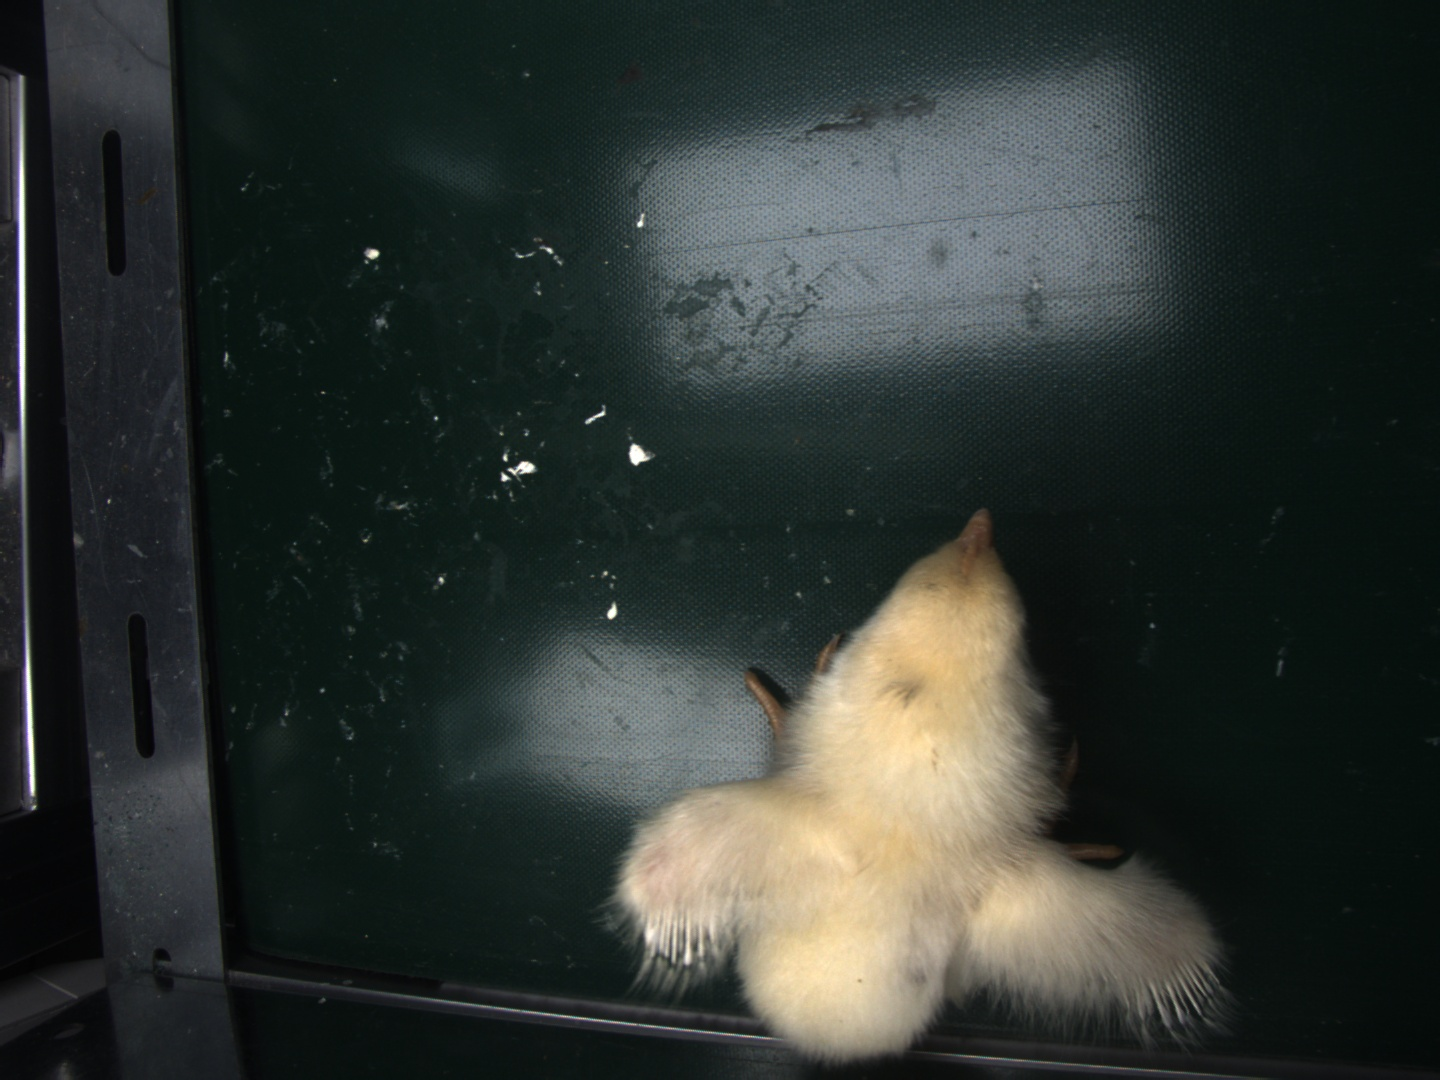male: (1130, 951, 1225, 1029)
